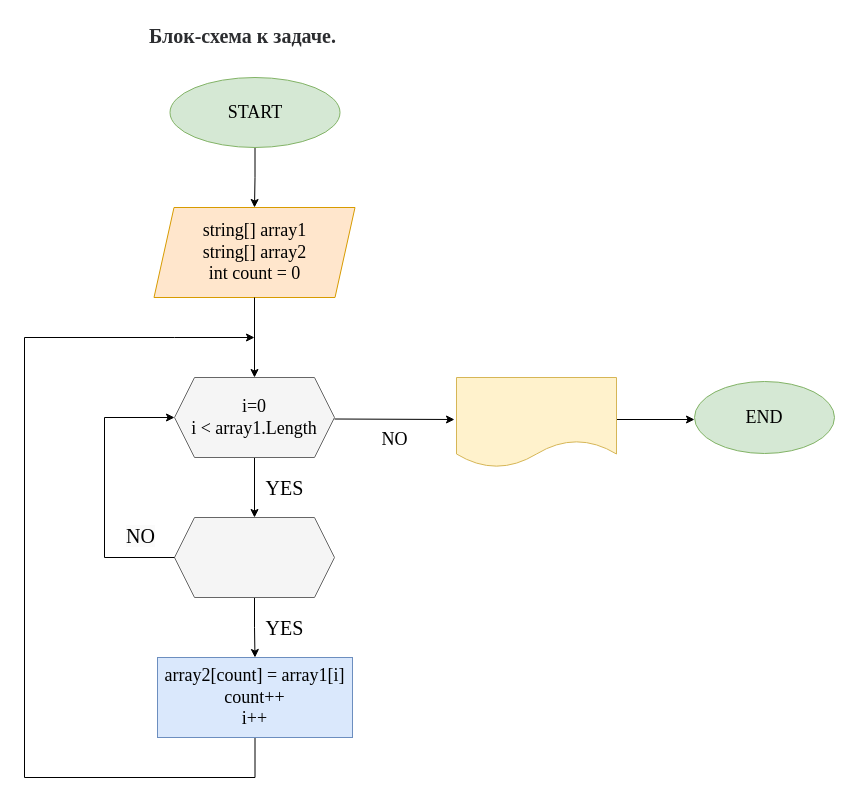
Some shapes in this 852 by 803 pixel diagram are drawn without their labels. The box of each missing label's shape, as (x1, y1, x2, y2) in pixels:
array2: (456, 376, 616, 468)
array[i].Length <=3: (174, 516, 334, 598)
